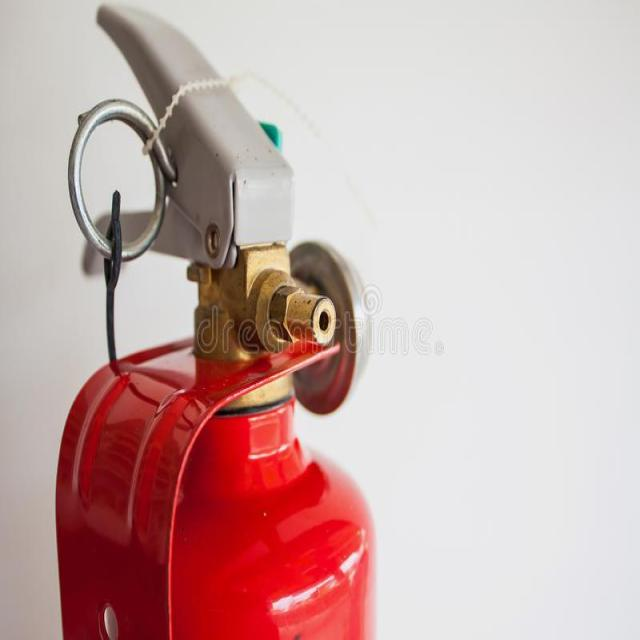fire_extinguisher: (44, 0, 394, 639)
